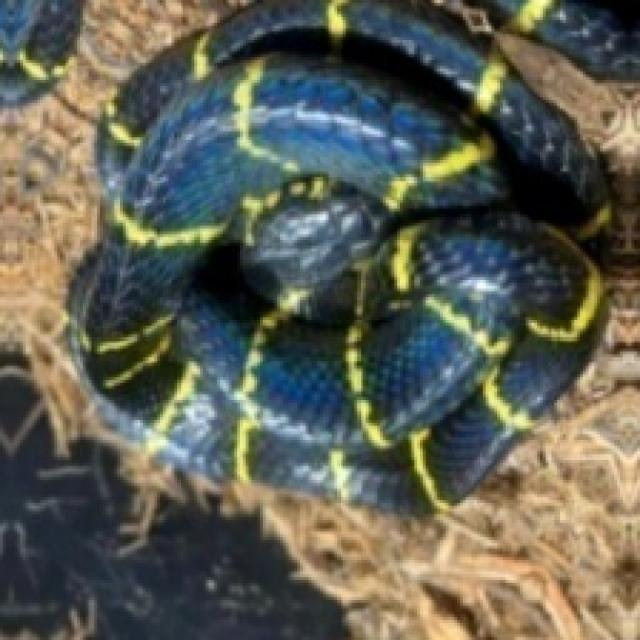mangrove cat snake: (69, 0, 637, 509)
